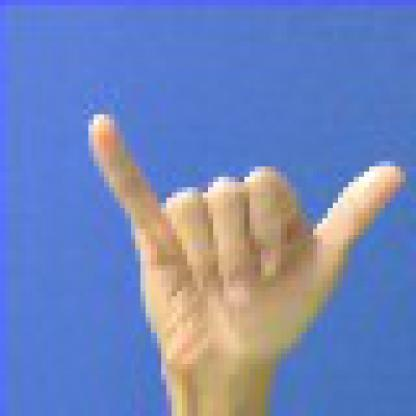six: (78, 99, 411, 411)
